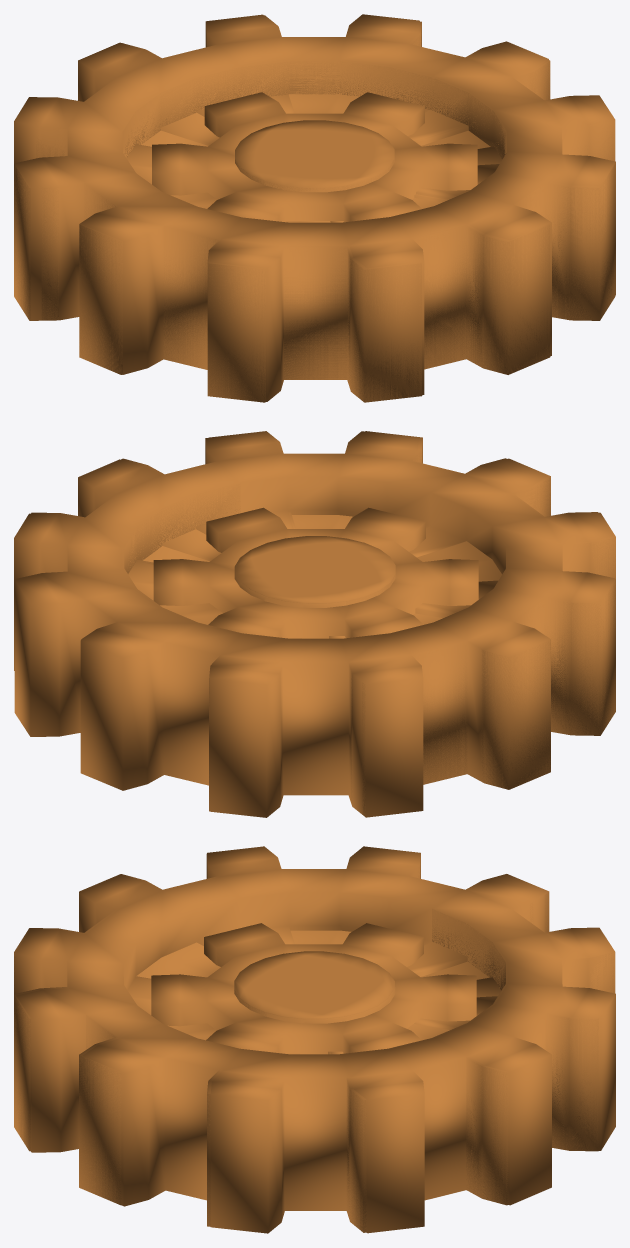
The model's file is Gears02.fbx.
3 renders of one model, top to bottom at view 1: azimuth 30°, elevation 25°; view 2: azimuth 150°, elevation 25°; view 3: azimuth 270°, elevation 25°, orthographic.
Parts seen in each view (by area): view 1: Gear_Mid_01, Gear_Mid_03, Gear_Mid_02, Gear_Mid_04, Gear_Small_01, Gear_Mid_05; view 2: Gear_Mid_03, Gear_Mid_01, Gear_Mid_02, Gear_Small_01, Gear_Mid_04, Gear_Mid_05; view 3: Gear_Mid_03, Gear_Mid_01, Gear_Small_01, Gear_Mid_02, Gear_Mid_04, Gear_Mid_05.
Part boxes in pixels (<box>): Gear_Mid_01: <box>14,25,615,402</box>; Gear_Mid_03: <box>14,14,615,401</box>; Gear_Mid_02: <box>14,33,615,401</box>; Gear_Mid_04: <box>14,15,615,402</box>; Gear_Small_01: <box>152,92,477,222</box>; Gear_Mid_05: <box>14,23,615,402</box>; Gear_Mid_03: <box>14,431,614,817</box>; Gear_Mid_01: <box>126,442,615,816</box>; Gear_Mid_02: <box>124,451,615,816</box>; Gear_Small_01: <box>153,507,478,638</box>; Gear_Mid_04: <box>16,431,615,816</box>; Gear_Mid_05: <box>132,453,615,815</box>; Gear_Mid_03: <box>15,846,615,1233</box>; Gear_Mid_01: <box>14,858,613,1232</box>; Gear_Small_01: <box>151,923,476,1054</box>; Gear_Mid_02: <box>14,856,613,1232</box>; Gear_Mid_04: <box>14,846,613,1232</box>; Gear_Mid_05: <box>14,866,613,1232</box>.
Size of the model in its own units: 448 by 109 by 448.
